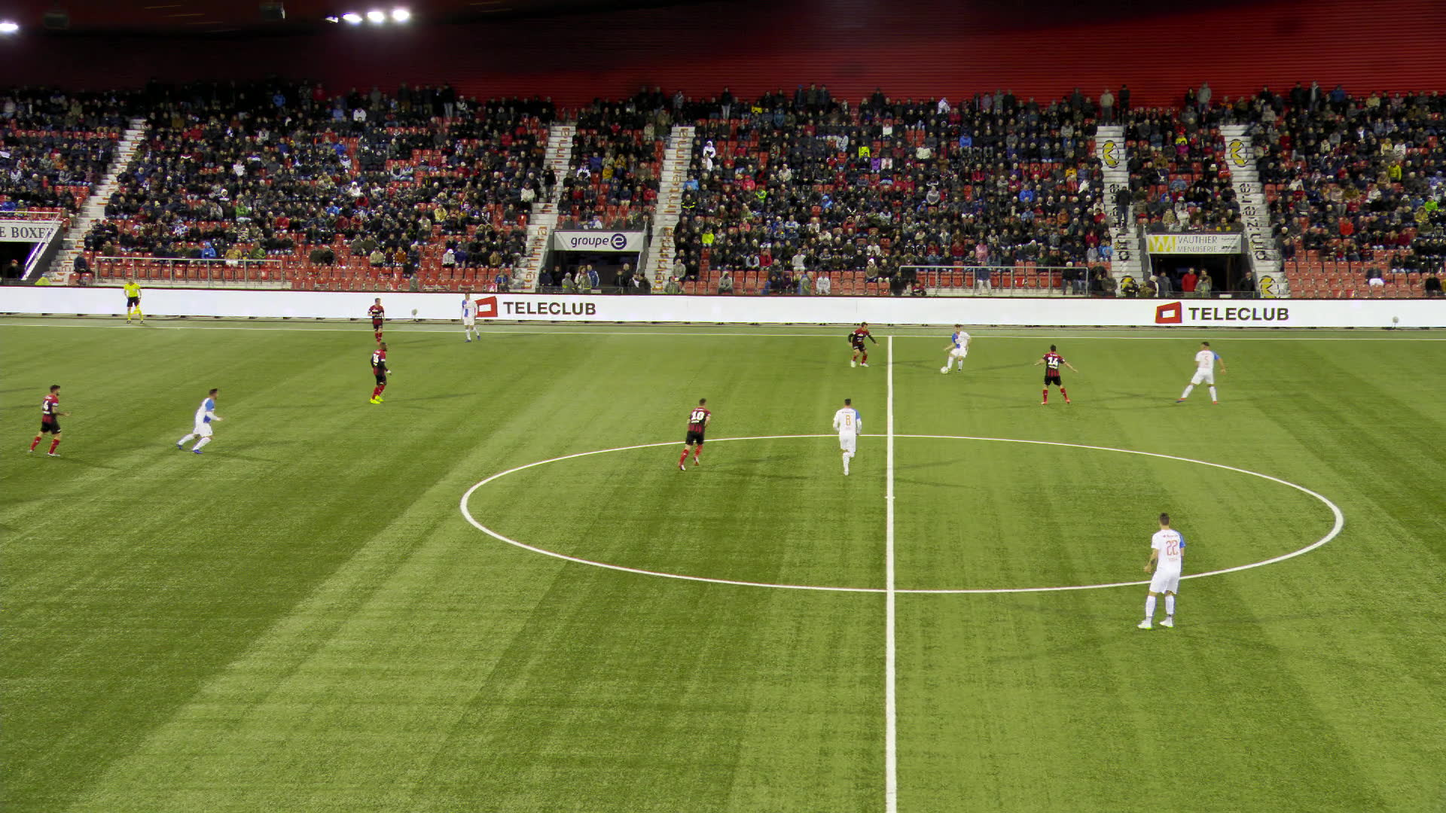ball: (939, 366, 947, 374)
player: (1139, 513, 1184, 629), (1173, 341, 1223, 403), (26, 385, 69, 456), (174, 388, 219, 453), (1033, 346, 1078, 404), (831, 397, 861, 474), (678, 397, 709, 470), (845, 321, 877, 367), (942, 323, 970, 372), (369, 342, 391, 403), (461, 292, 480, 341), (366, 297, 384, 345)
referee: (124, 276, 144, 323)
